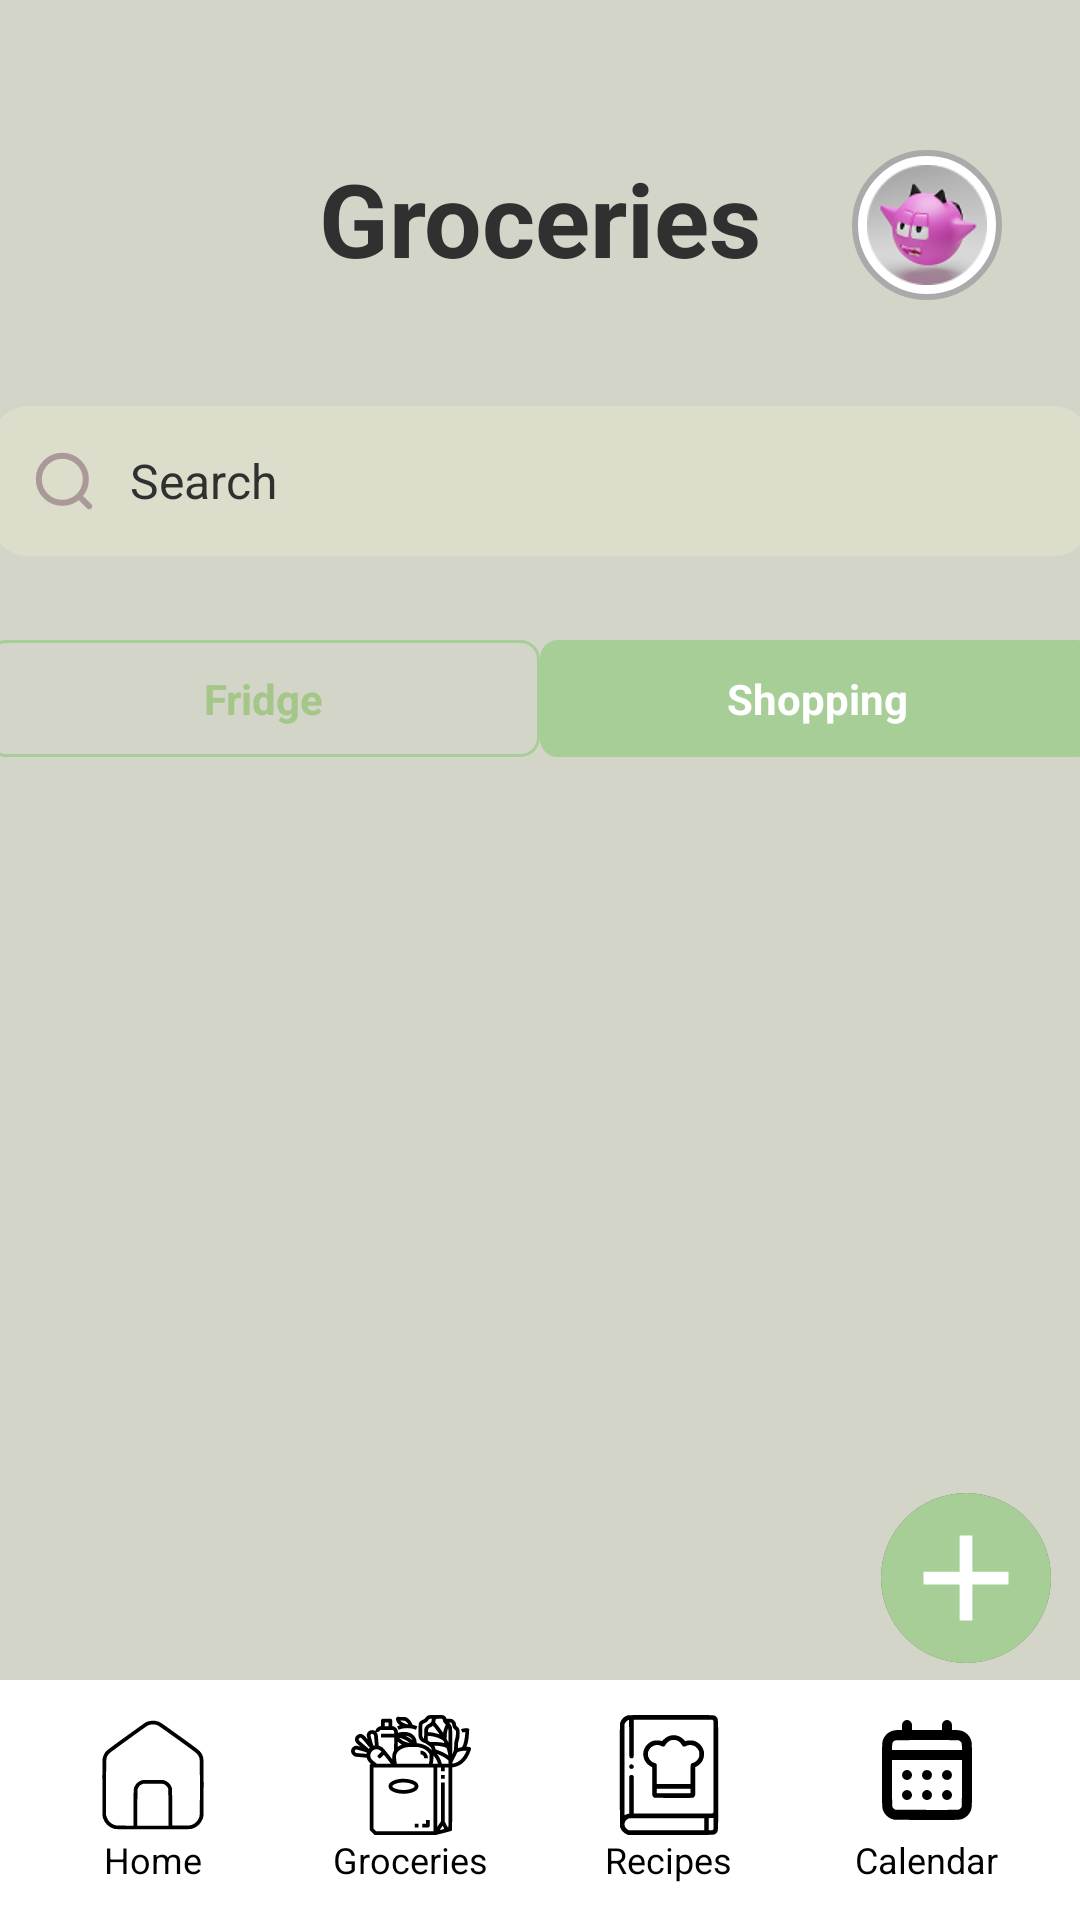

Icon click points for this 1080×1920 phone screenshot, format (x=x, y=y):
add: (x=966, y=1578)
